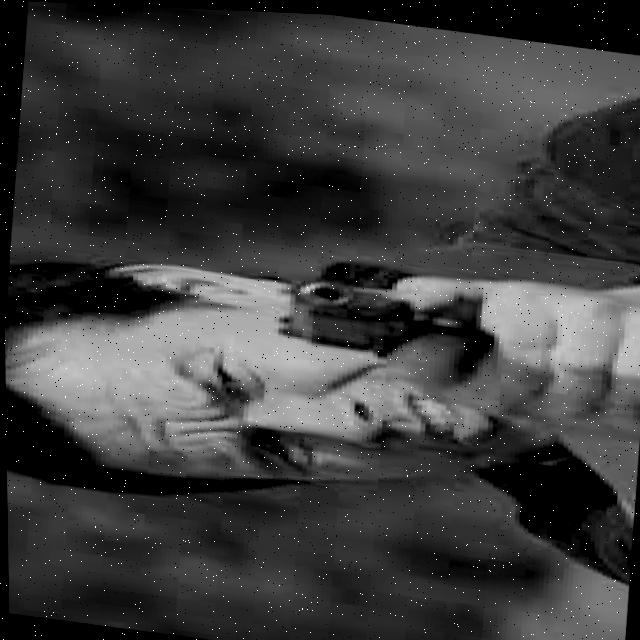pistol: (271, 272, 457, 361)
